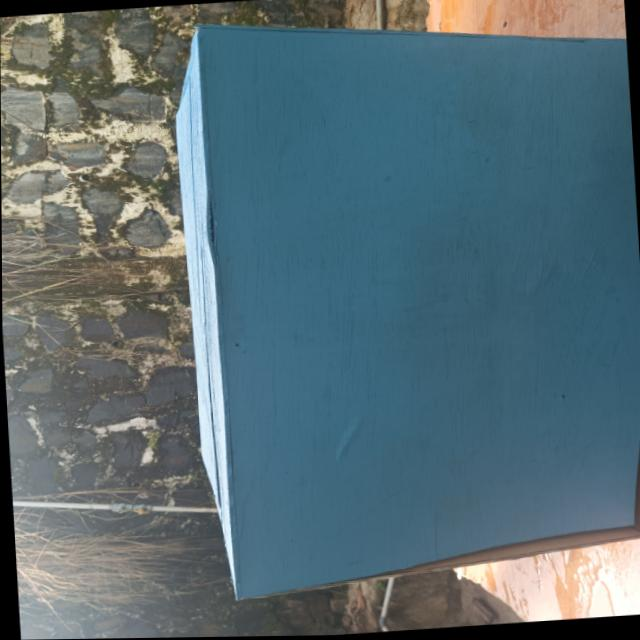blue_box: (115, 0, 640, 616)
